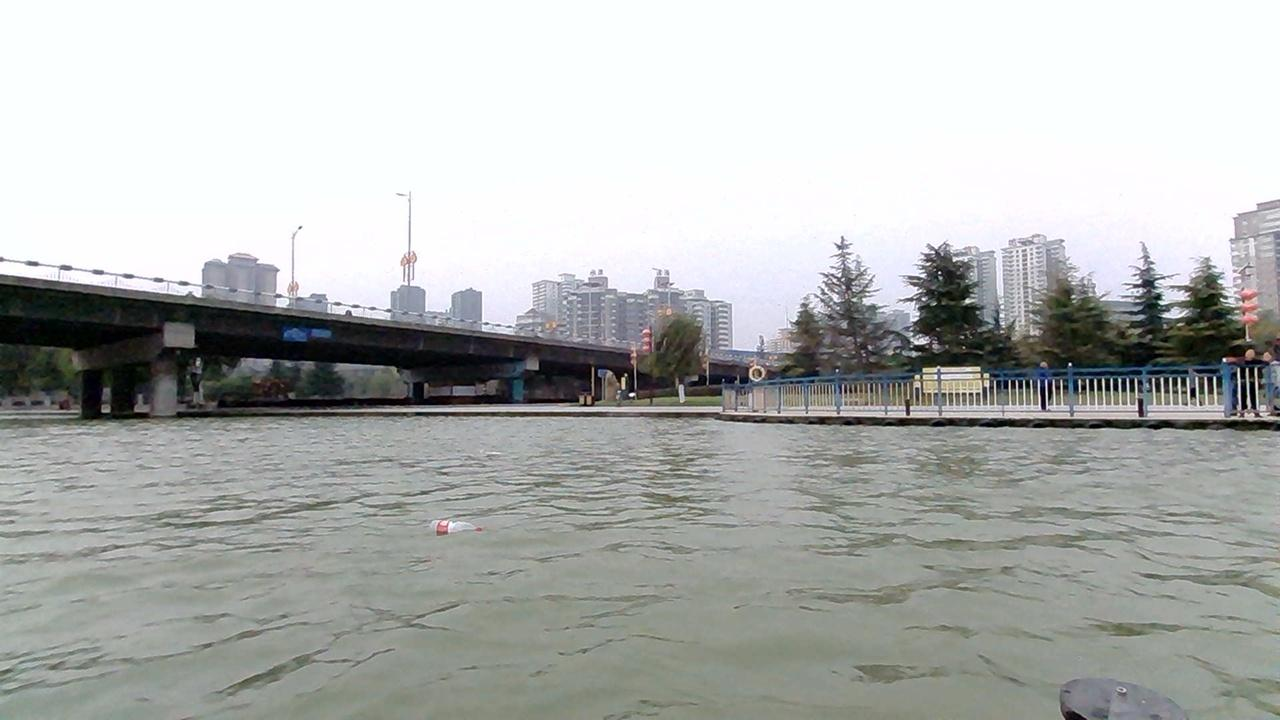bottle: (430, 518, 481, 533)
